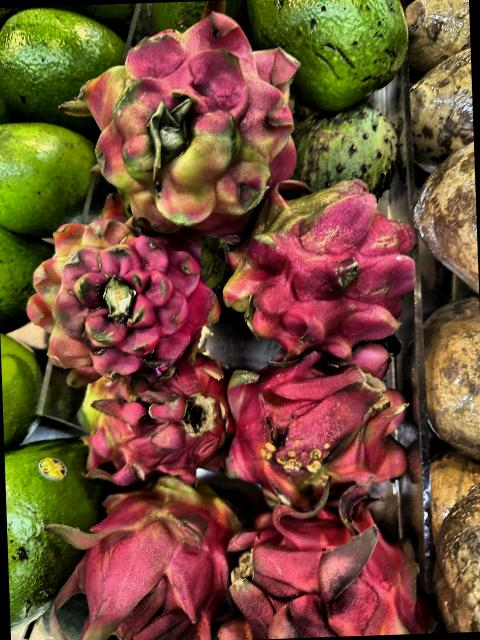buah-naga-belum-matang: (64, 18, 296, 234), (19, 206, 225, 382), (234, 188, 410, 372), (228, 358, 408, 518), (77, 475, 239, 640), (52, 344, 234, 480)
buah-naga-matang: (230, 498, 422, 640)
